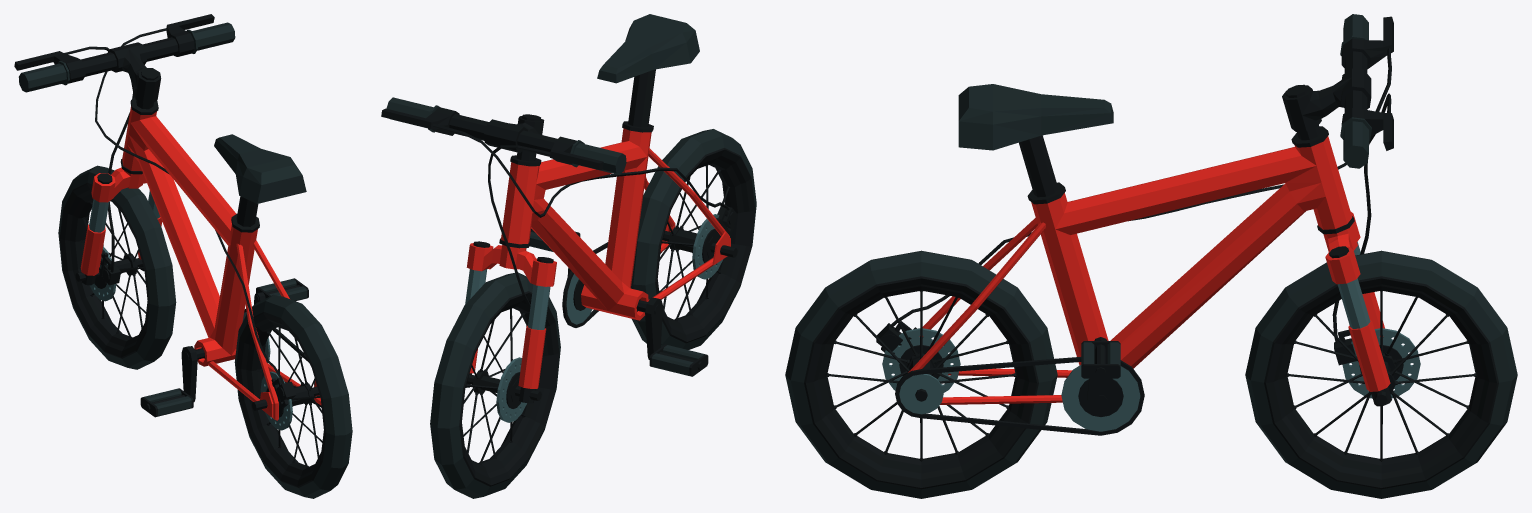
File: Bike.fbx
The picture shows the model from 3 angles, left to right: view 1: azimuth 30°, elevation 25°; view 2: azimuth 150°, elevation 25°; view 3: azimuth 270°, elevation 25°; orthographic projection. The views are drawn at different scales.
Parts seen in each view (by area): view 1: Bike; view 2: Bike; view 3: Bike.
Boxes of the visible parts, x1,y1,x2,y2 form: Bike: [14, 14, 352, 498]; Bike: [381, 14, 756, 498]; Bike: [785, 14, 1517, 498].
Size of the model in its own units: 75.39 by 113 by 177.
